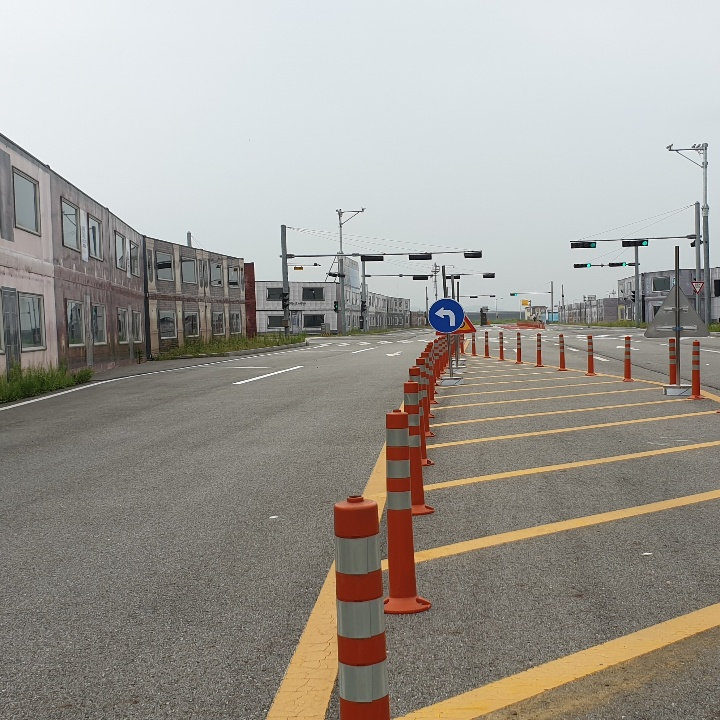left: (435, 302, 457, 329)
